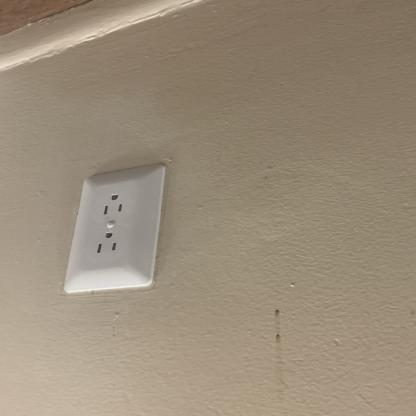OUTLET: (62, 158, 172, 296)
